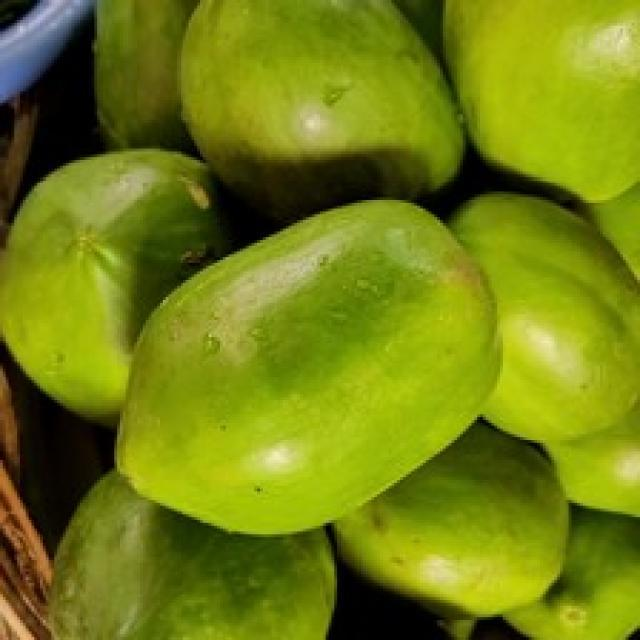Pepaya unrippen: (95, 200, 514, 544)
